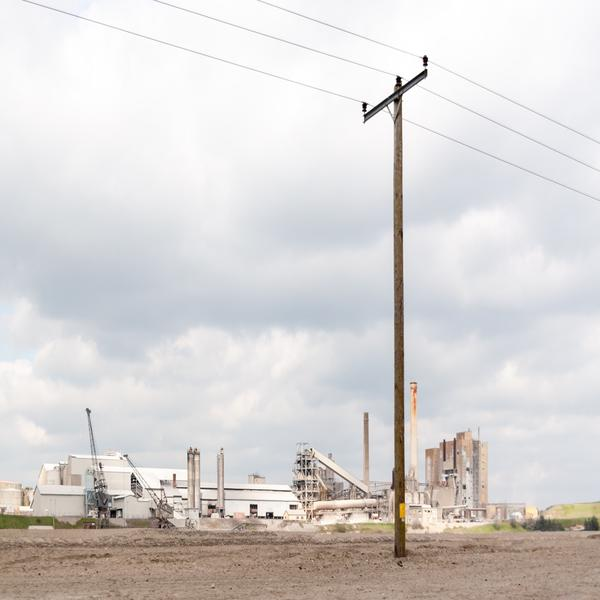utility_pole: (352, 42, 443, 150)
